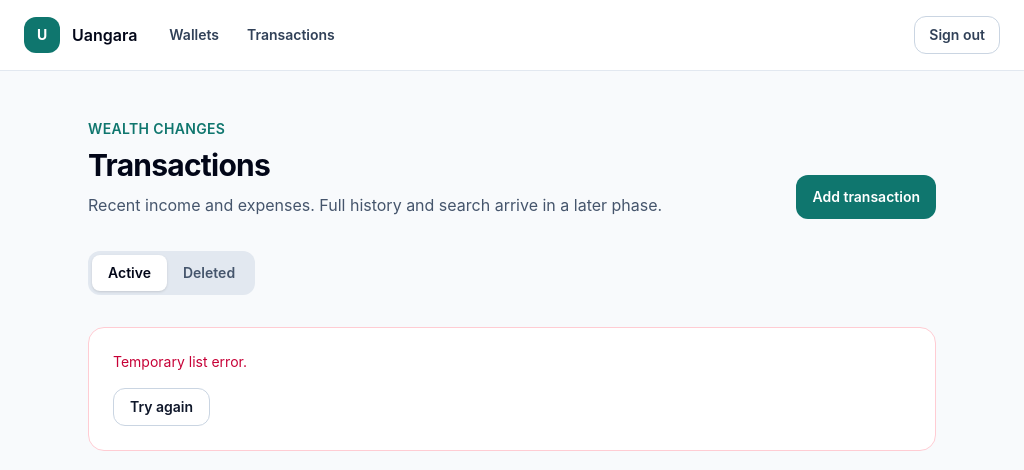
it: income and expense transaction flow › shows a safe list error and retries the same mode
Expected: the message reads "Temporary list error.", [113,353,247,370]
Click the button "Try again" at (162, 407), box [113,388,210,426]
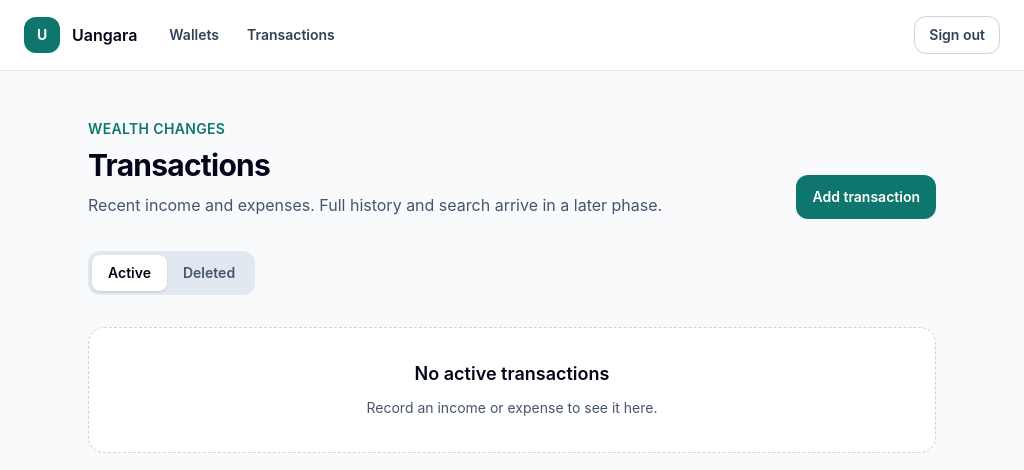
Result: the heading "No active transactions" is shown at [415,363,609,384]
